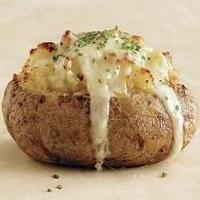biodegradable: (3, 28, 197, 171)
